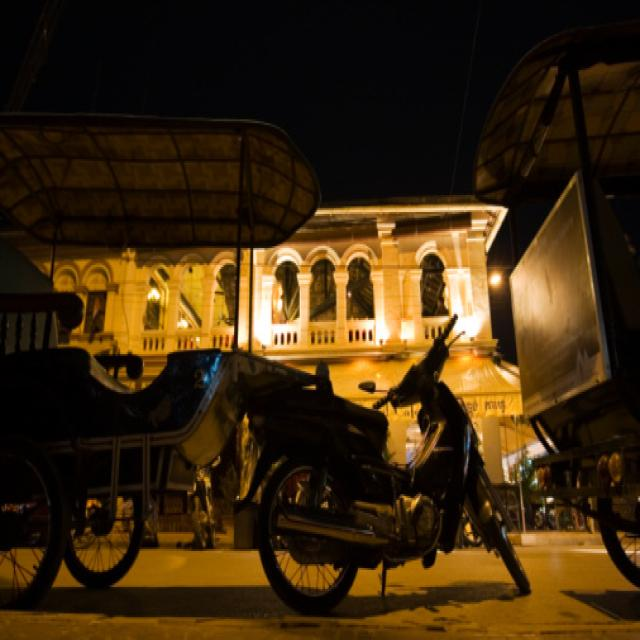Motorbike: (234, 327, 506, 623)
